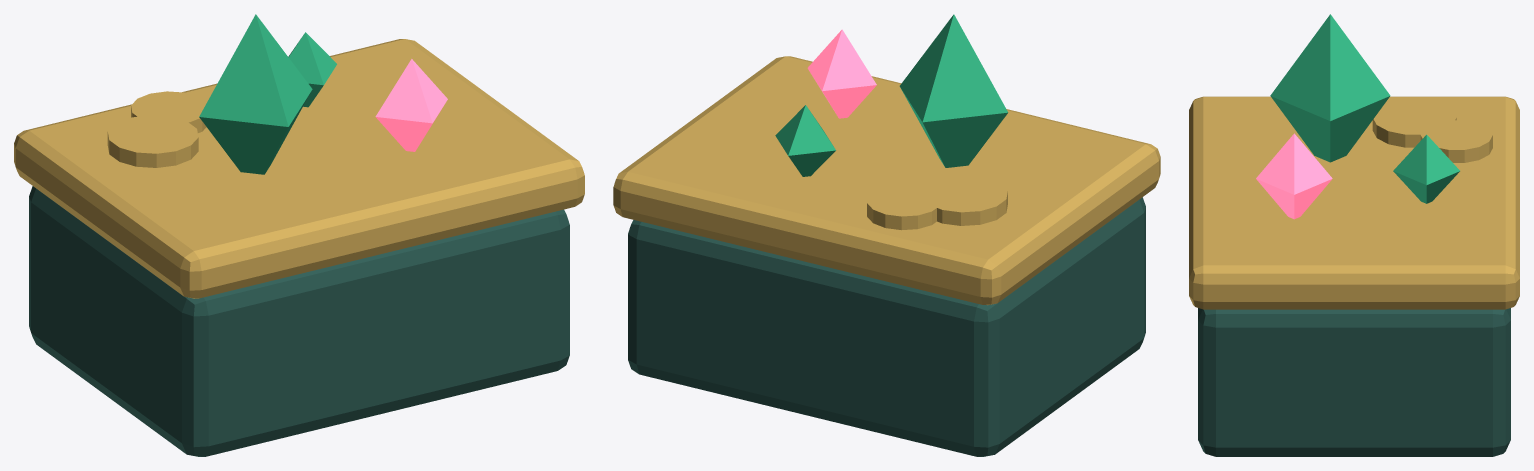
The model's file is gem_trader.glb.
The picture shows the model from 3 angles, left to right: view 1: azimuth 30°, elevation 25°; view 2: azimuth 150°, elevation 25°; view 3: azimuth 270°, elevation 25°; orthographic projection. The views are drawn at different scales.
Visible parts, largest first — view 1: gem_trader_teal, gem_trader_gold, gem_trader_emerald, gem_trader_ems; view 2: gem_trader_teal, gem_trader_gold, gem_trader_emerald, gem_trader_ems; view 3: gem_trader_gold, gem_trader_teal, gem_trader_emerald, gem_trader_ems.
Boxes of the visible parts, x1,y1,x2,y2 form: gem_trader_teal: [29, 186, 569, 456]; gem_trader_gold: [14, 39, 584, 298]; gem_trader_emerald: [199, 14, 336, 174]; gem_trader_ems: [375, 59, 447, 151]; gem_trader_teal: [628, 197, 1145, 456]; gem_trader_gold: [613, 56, 1160, 305]; gem_trader_emerald: [775, 14, 1008, 176]; gem_trader_ems: [807, 29, 876, 118]; gem_trader_gold: [1189, 96, 1519, 309]; gem_trader_teal: [1198, 308, 1510, 456]; gem_trader_emerald: [1270, 14, 1459, 203]; gem_trader_ems: [1256, 133, 1332, 219].
Size of the model in its own units: 0.355 by 0.31 by 0.275.
